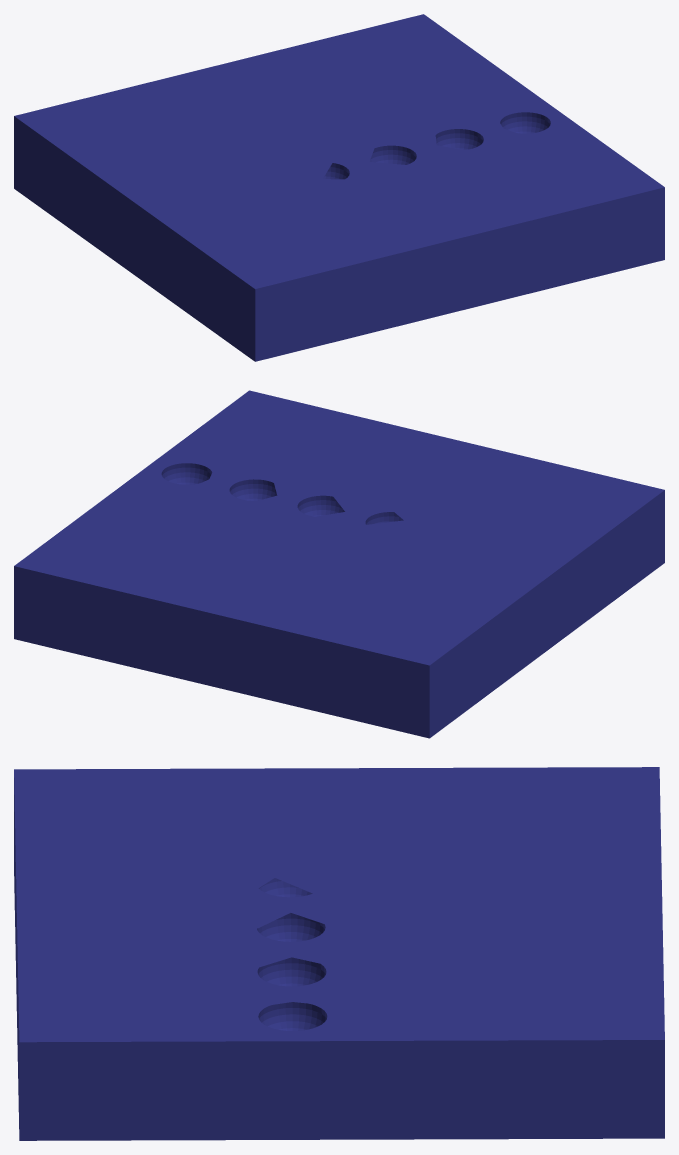
The model's file is stand 2.fbx.
3 views of the same model, one above another, from view 1: azimuth 30°, elevation 25°; view 2: azimuth 150°, elevation 25°; view 3: azimuth 270°, elevation 25° (orthographic). The views are drawn at different scales.
Parts seen in each view (by area): view 1: Cube.028; view 2: Cube.028; view 3: Cube.028.
Boxes of the visible parts, x1,y1,x2,y2 form: Cube.028: (14, 14, 664, 361); Cube.028: (14, 390, 664, 738); Cube.028: (14, 767, 664, 1140).
Size of the model in its own units: 961 by 161 by 961.
